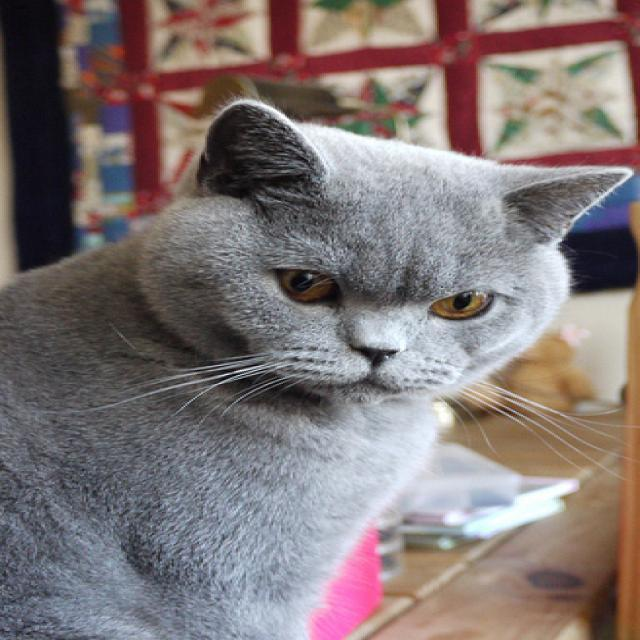British_Shorthair: (135, 97, 630, 407)
